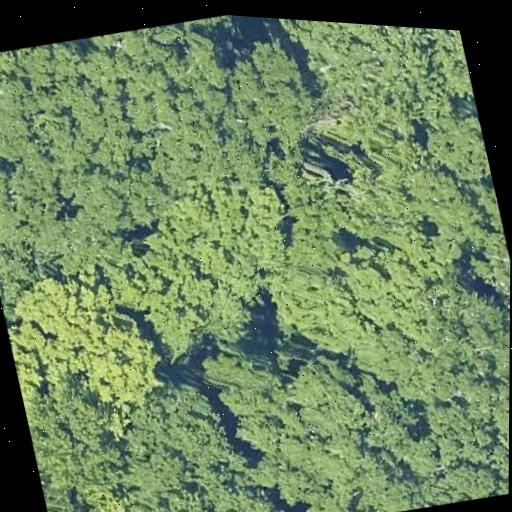tree-top: (339, 216, 499, 392), (144, 164, 301, 330), (25, 26, 163, 184), (364, 342, 510, 490), (295, 20, 452, 155), (338, 134, 484, 270), (260, 238, 368, 363), (226, 33, 329, 163), (119, 368, 232, 483), (202, 329, 303, 452), (23, 382, 129, 497), (9, 256, 125, 360), (70, 310, 176, 415), (285, 340, 372, 442), (411, 92, 493, 196), (39, 200, 132, 288), (282, 168, 366, 264), (0, 142, 78, 232), (165, 26, 243, 109), (408, 449, 509, 512), (403, 27, 475, 112), (465, 218, 511, 341), (111, 461, 221, 512), (7, 326, 56, 430), (243, 26, 310, 100), (215, 487, 299, 512), (43, 484, 98, 512), (492, 326, 510, 409), (0, 143, 18, 209)
